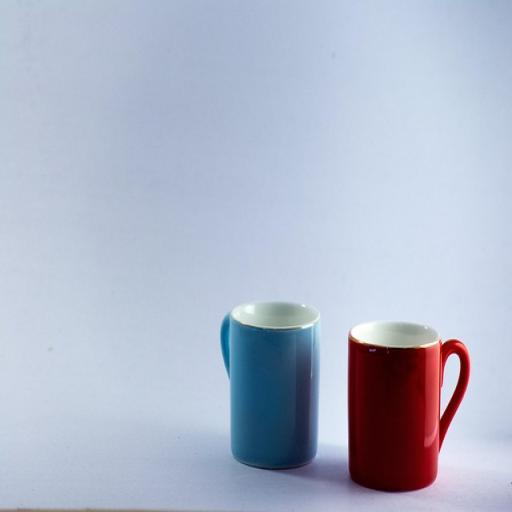cup: (348, 319, 470, 493)
